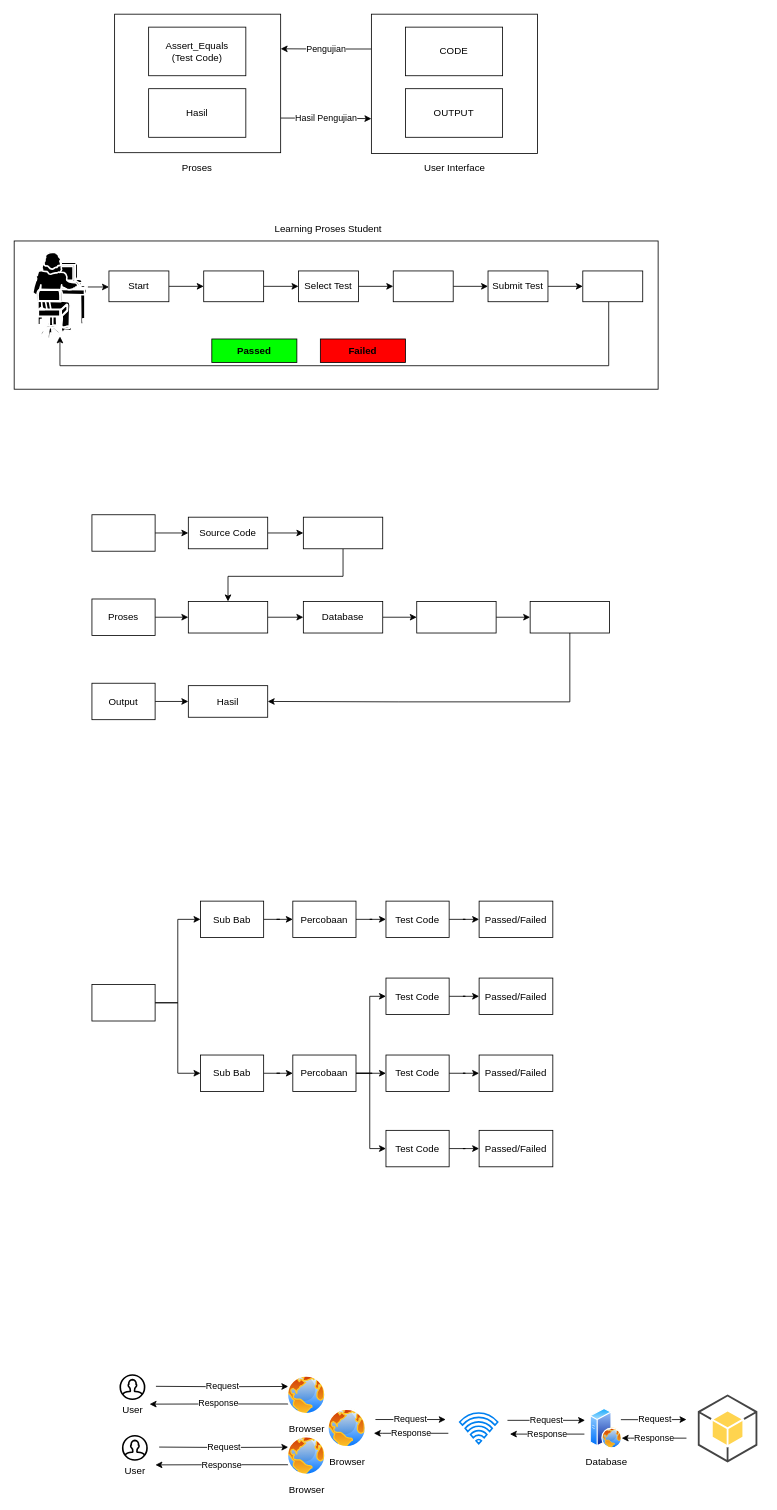
This 777x1510 diagram has some shape labels left out. Each missing label, with the centre of its shape:
"BAB" goes at point 123,1002.
"Codewars Test" goes at point 228,617.
"Get Result" goes at point 612,286.
"Input" goes at point 123,532.
"Internet" goes at point 478,1428.
"Python Learning" goes at point 727,1428.
"Select Topic" goes at point 233,286.
"Simpan" goes at point 569,617.
"Solve Test" goes at point 422,286.
"Submit" goes at point 343,532.
"Testing" goes at point 456,617.
